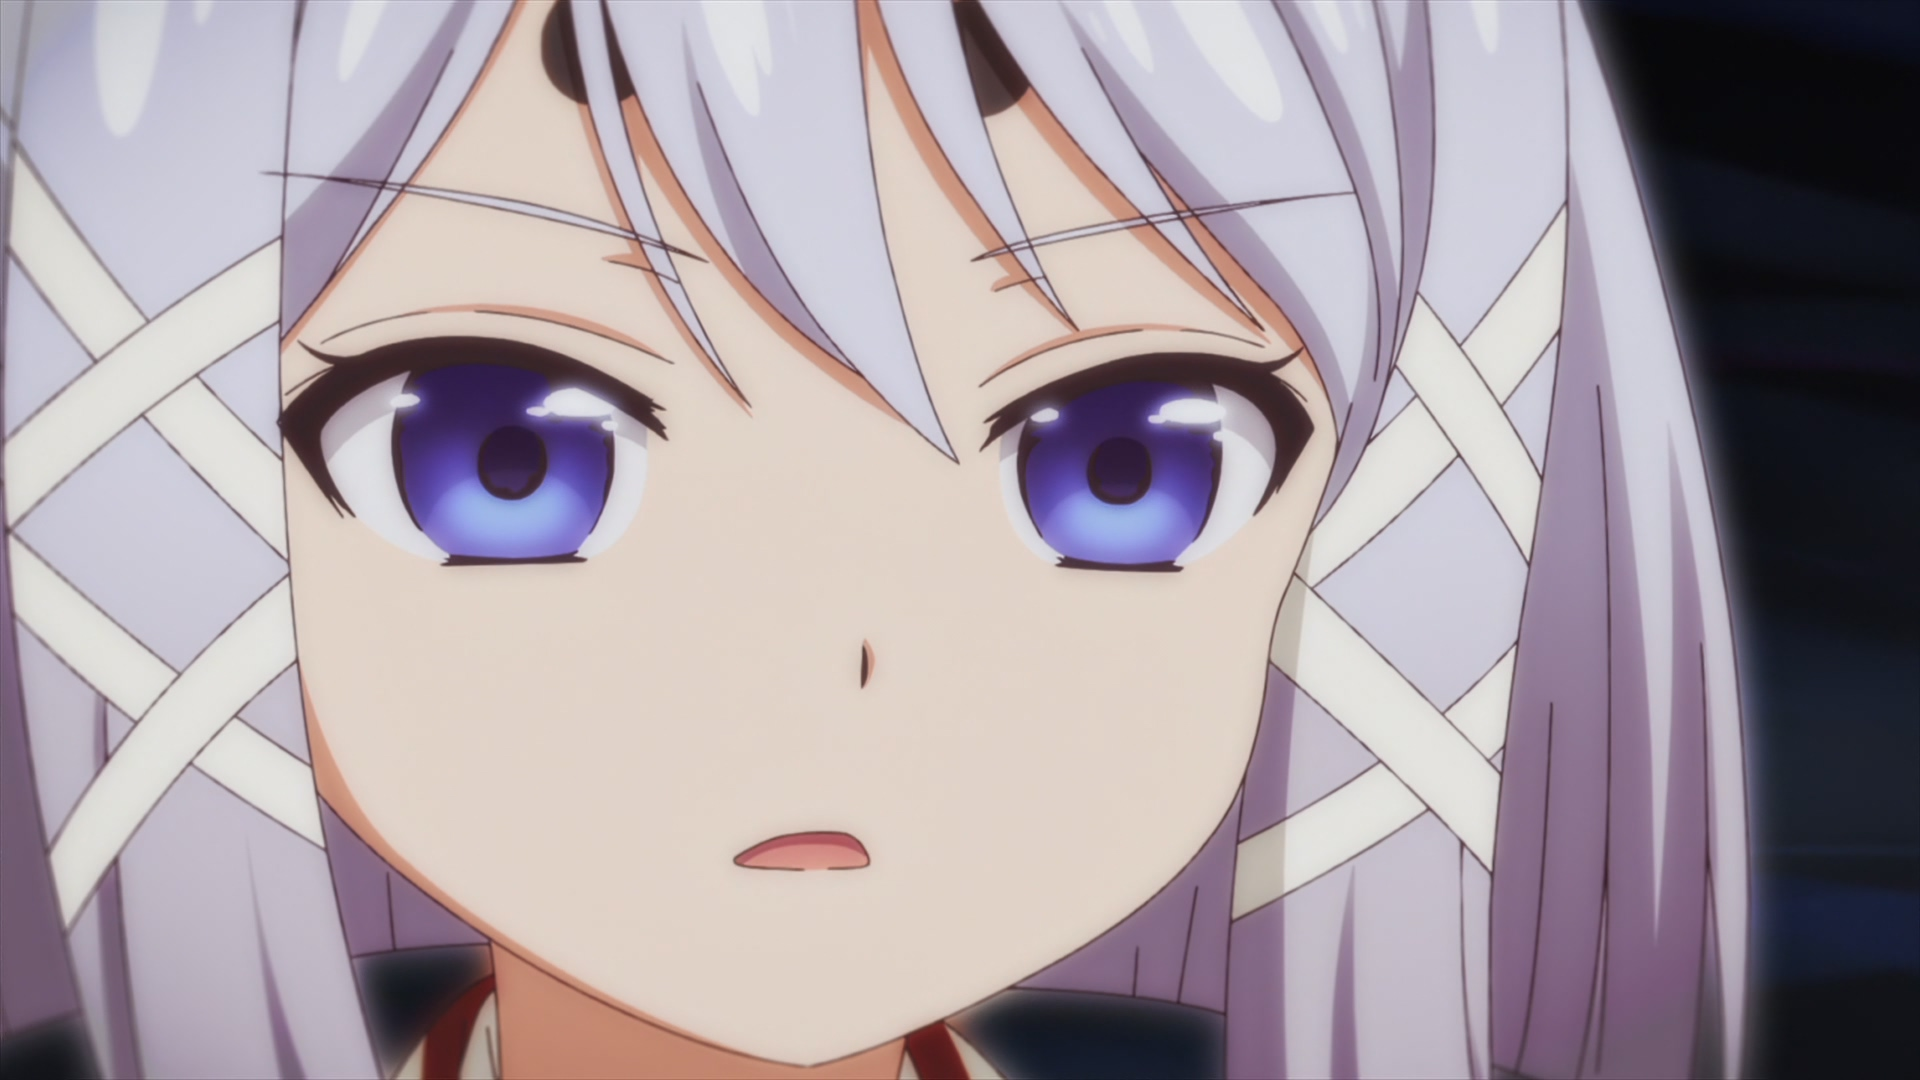柊: (1, 1, 1753, 1080)
